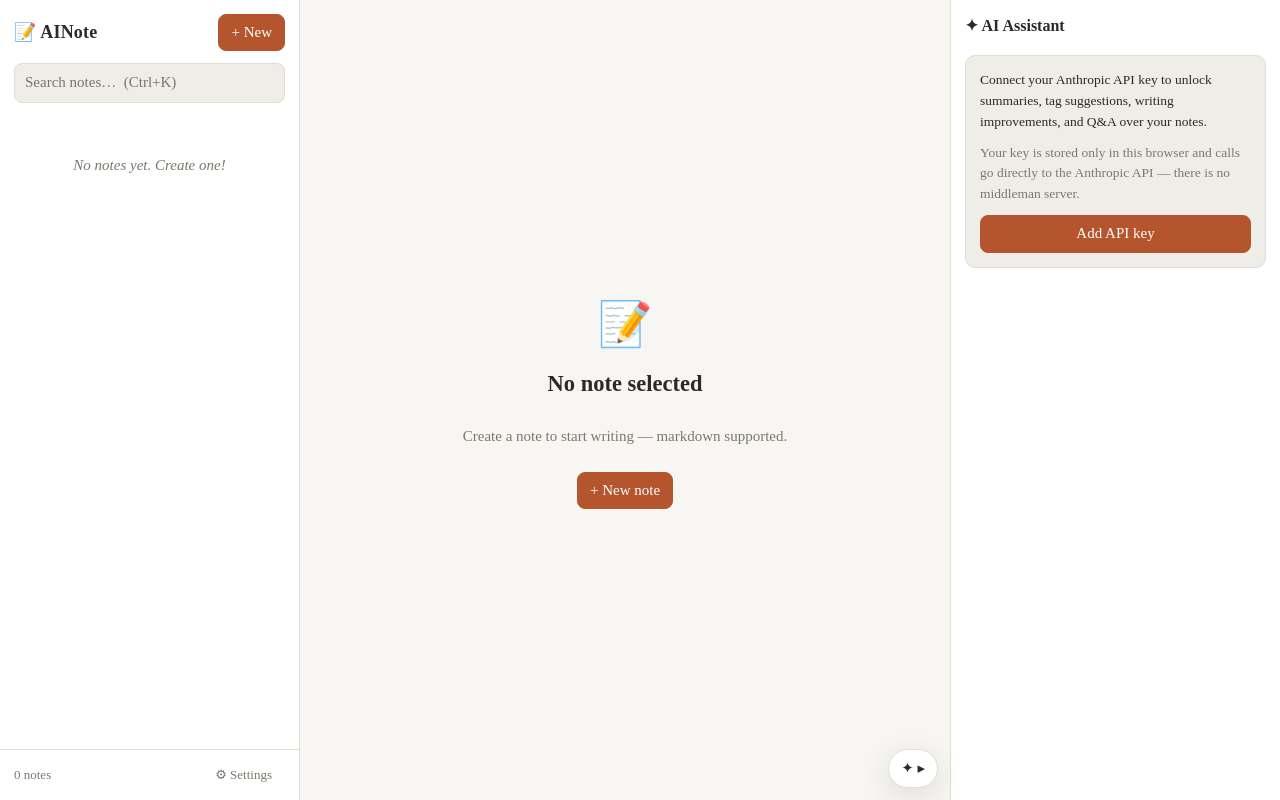
App › restores a deleted note when Undo is used
This screenshot has width=1280, height=800.
Click the button "+ New" at (252, 33), box [218,14,285,51]
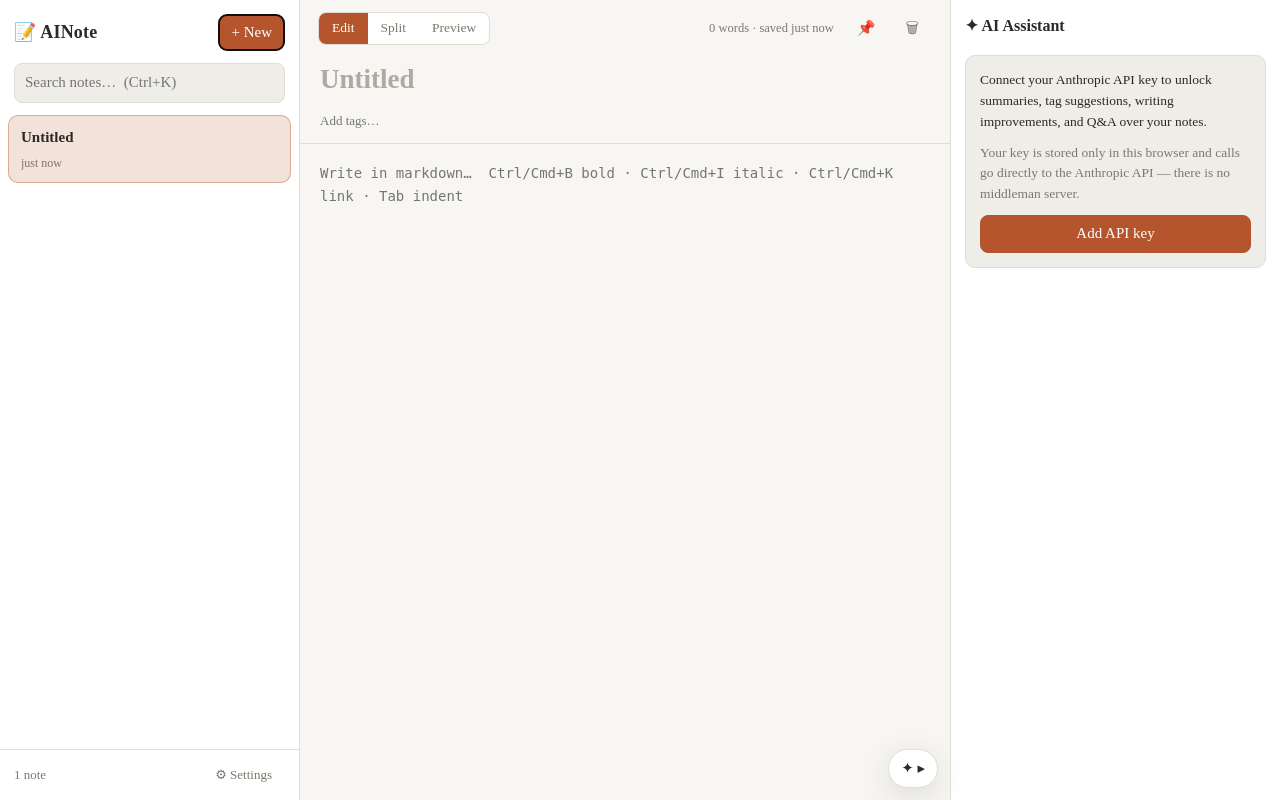
Type "Delete me" into the field named "Note title" at (625, 75), box [300,47,950,103]
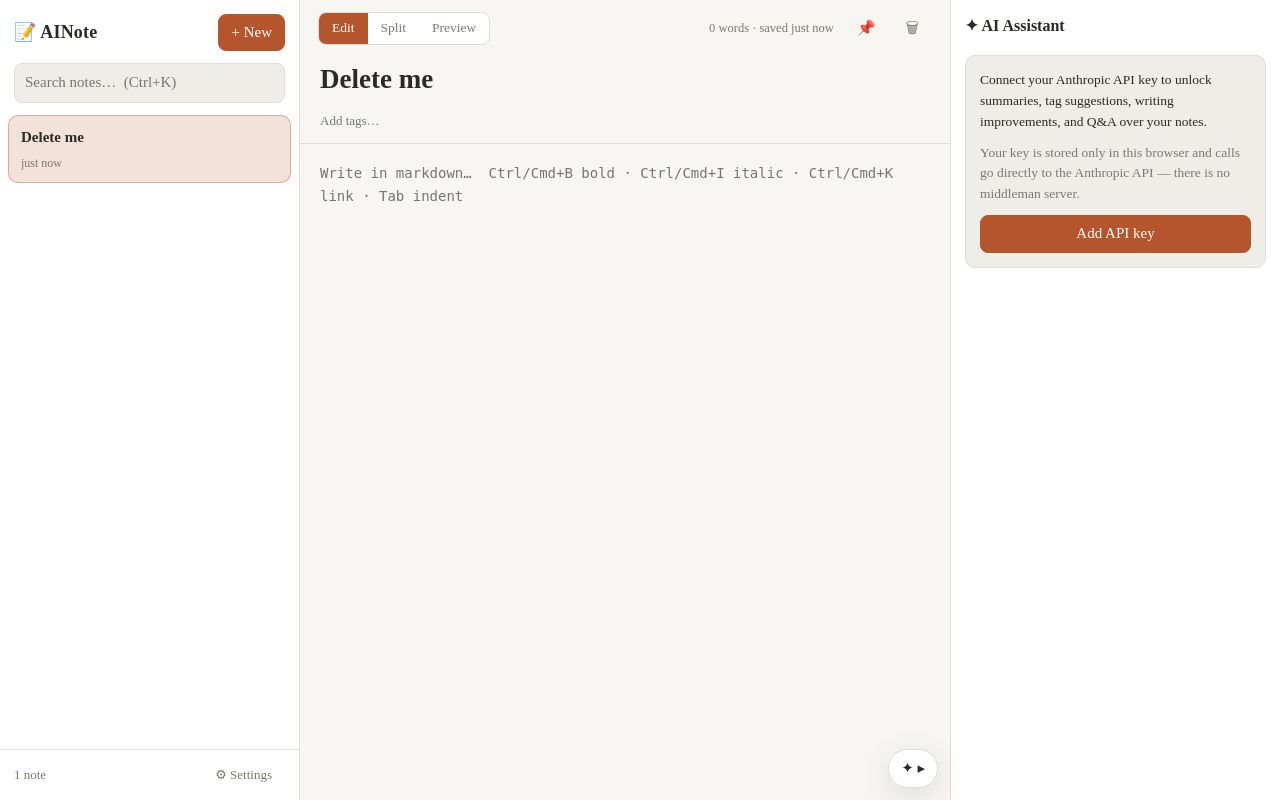
Click the button titled "Delete note" at (912, 29), box [892,10,932,47]
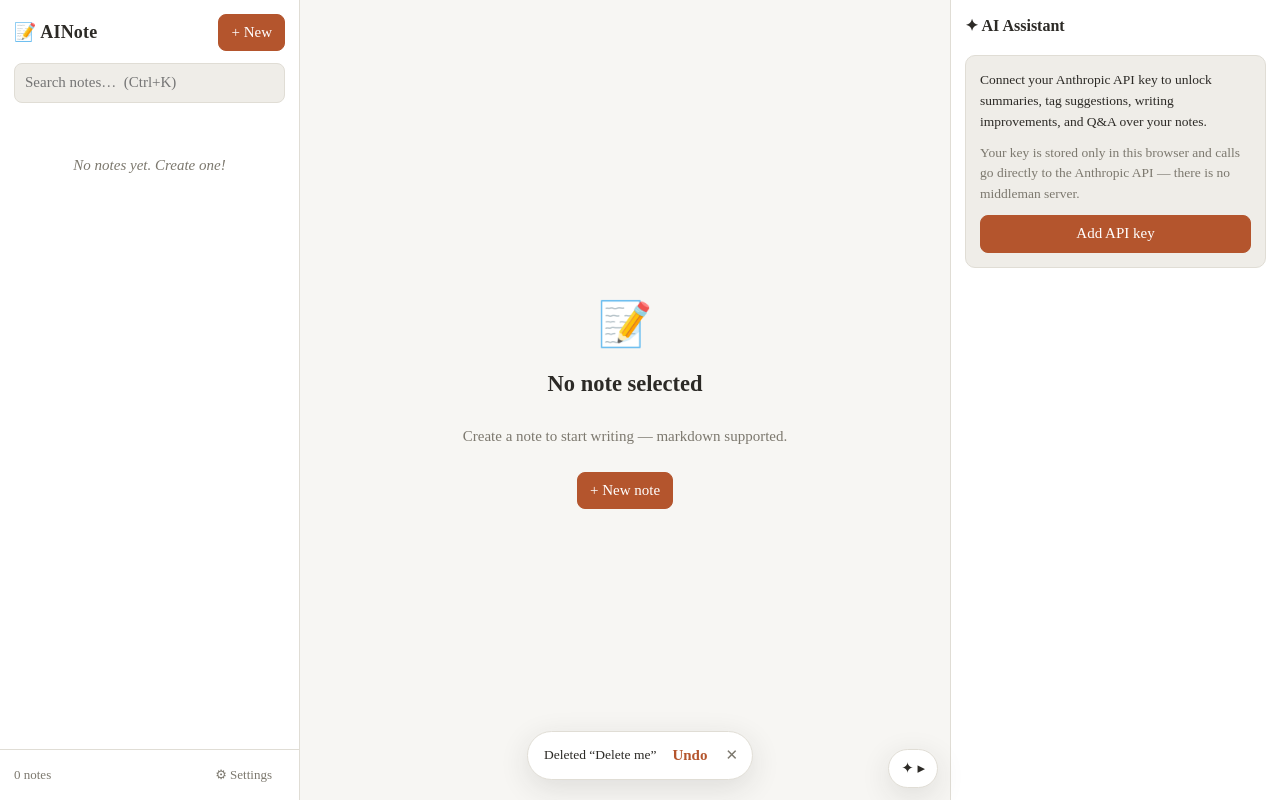
expect the text "Deleted “Delete me”" is shown: met, box [544,745,656,766]
Click the button "Undo" at (690, 755), box [668,742,711,769]
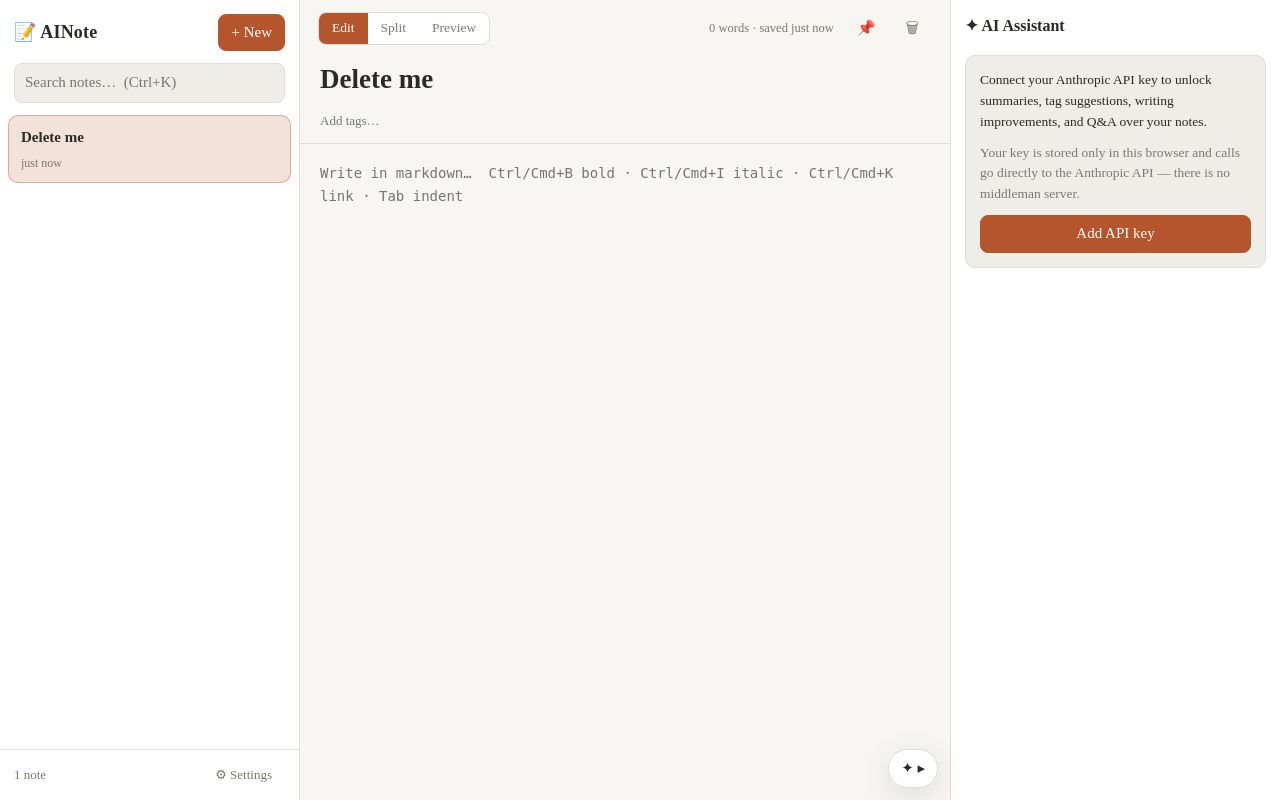
expect the button "Delete me just now" is shown: met, box [8,114,291,183]
expect the field named "Note title" holds "Delete me": met, box [300,47,950,103]
